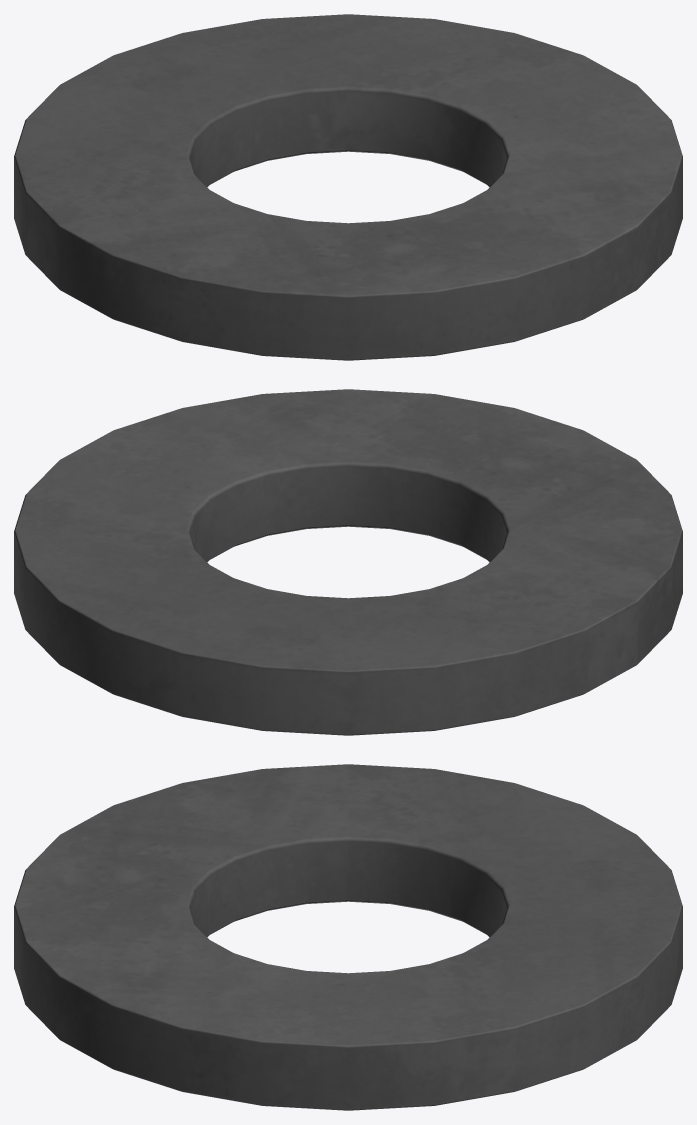
Rendered from Blocks_03.fbx.
3 renders of one model, top to bottom at view 1: azimuth 30°, elevation 25°; view 2: azimuth 150°, elevation 25°; view 3: azimuth 270°, elevation 25°, orthographic.
Parts seen in each view (by area): view 1: Blocks_03; view 2: Blocks_03; view 3: Blocks_03.
Boxes of the visible parts, left/top/right/bottom form: Blocks_03: left=14, top=14, right=682, bottom=360; Blocks_03: left=14, top=389, right=682, bottom=735; Blocks_03: left=14, top=764, right=682, bottom=1110.
Size of the model in its own units: 180 by 19.45 by 180.
